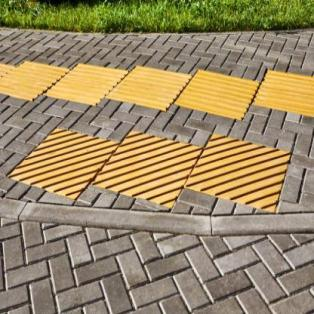Podoctatil: (6, 125, 290, 213), (0, 60, 312, 121)
